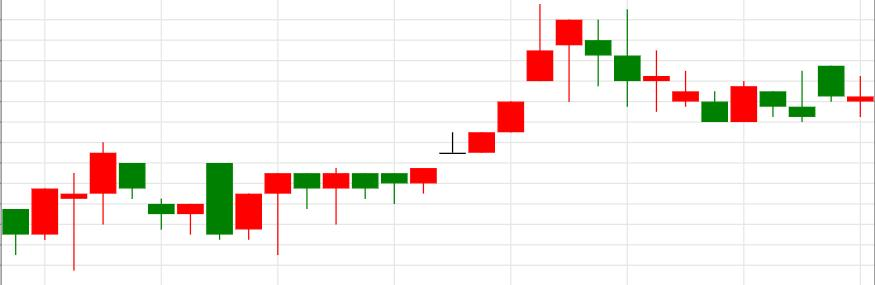hanging_man_fall: (206, 4, 584, 256)
